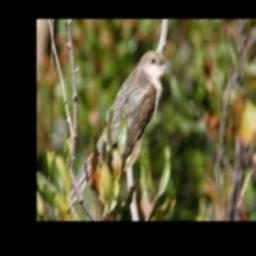Cuckoo: (63, 51, 172, 211)
